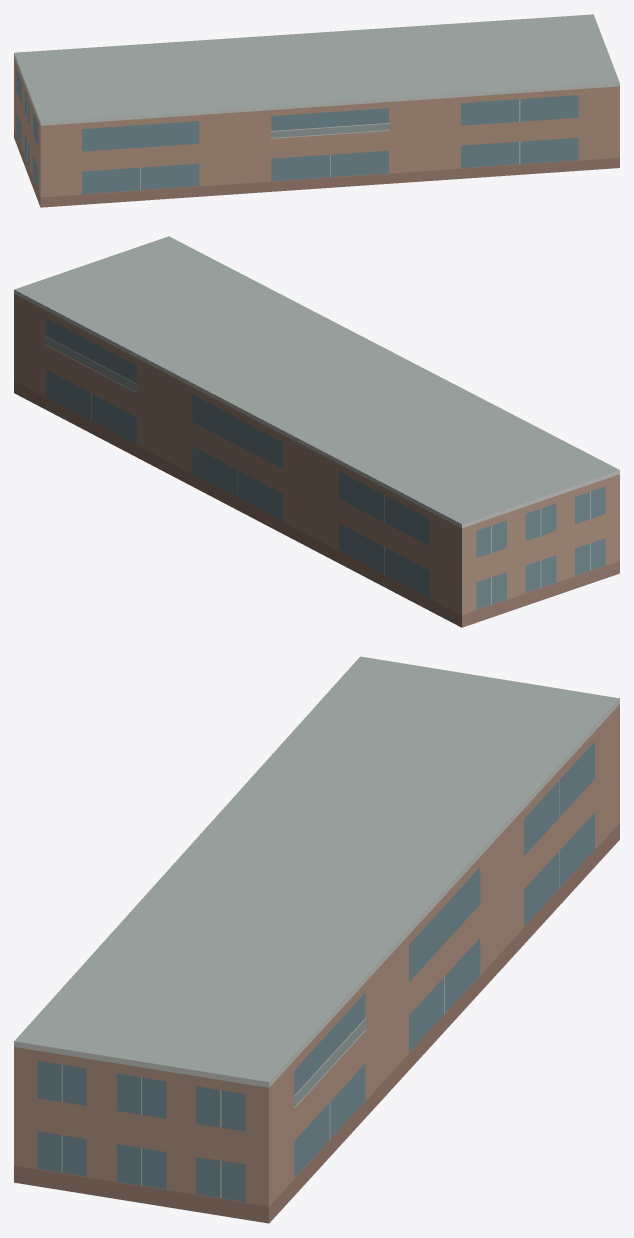
File: survey-upis-32513099.glb
3 views of the same model, one above another, from view 1: azimuth 30°, elevation 25°; view 2: azimuth 150°, elevation 25°; view 3: azimuth 270°, elevation 25° (orthographic). The views are drawn at different scales.
Parts seen in each view (by area): view 1: survey-upis-32513099.tmp; view 2: survey-upis-32513099.tmp; view 3: survey-upis-32513099.tmp.
Part boxes in pixels (x1,y1,x2,y2): survey-upis-32513099.tmp: (14,14,619,207); survey-upis-32513099.tmp: (14,236,619,627); survey-upis-32513099.tmp: (14,656,619,1223).
Size of the model in its own units: 39.44 by 6.1 by 23.72.
